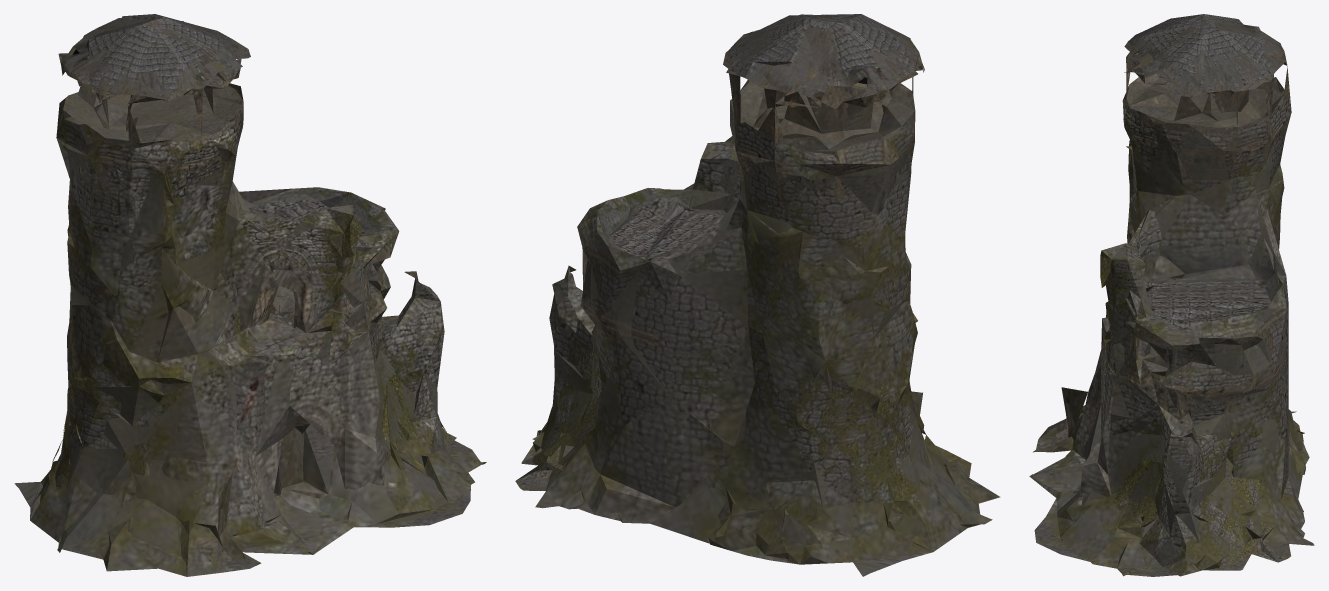
The model's file is world-stonetower.glb.
3 renders of one model, left to right at view 1: azimuth 30°, elevation 25°; view 2: azimuth 150°, elevation 25°; view 3: azimuth 270°, elevation 25°, orthographic. The views are drawn at different scales.
Visible parts, largest first — view 1: output_unwrapped; view 2: output_unwrapped; view 3: output_unwrapped.
Boxes of the visible parts, <box> form: output_unwrapped: <box>14,14,486,576</box>; output_unwrapped: <box>515,14,1000,576</box>; output_unwrapped: <box>1029,14,1314,576</box>.
Size of the model in its own units: 7.29 by 8 by 4.81.
1 material, 1 textured.
